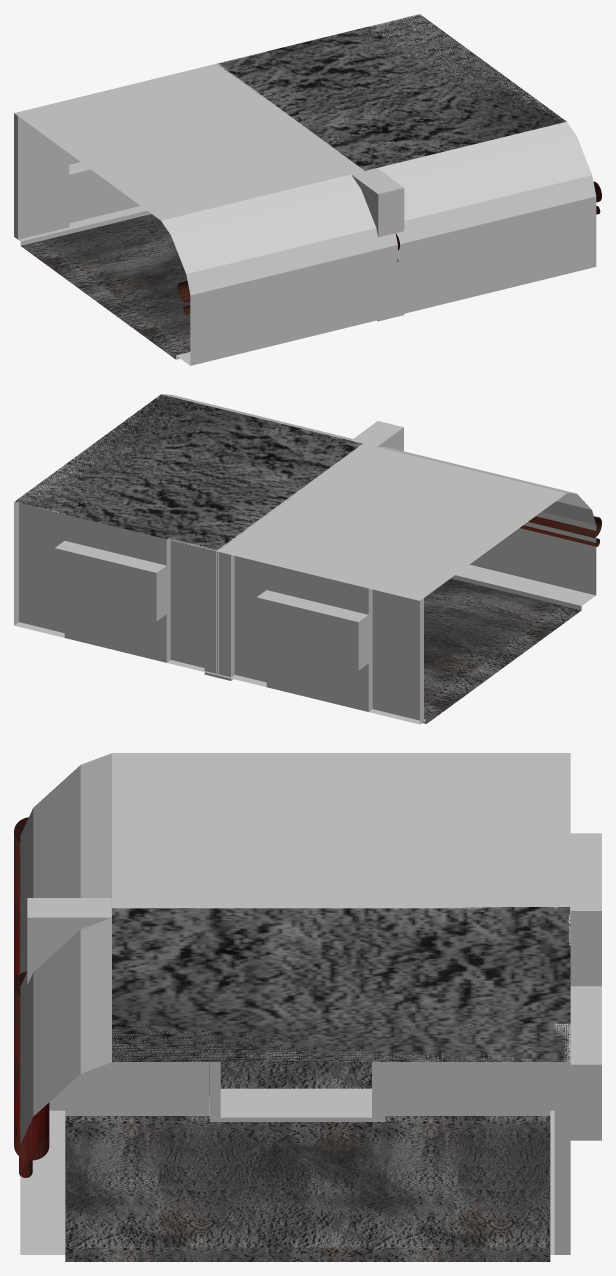
Rendered from Hallway 1 frame modular.fbx.
3 views of the same model, one above another, from view 1: azimuth 30°, elevation 25°; view 2: azimuth 150°, elevation 25°; view 3: azimuth 270°, elevation 25° (orthographic). The views are drawn at different scales.
Parts seen in each view (by area): view 1: Hallway 1 frame; view 2: Hallway 1 frame; view 3: Hallway 1 frame.
Part boxes in pixels (x1,y1,x2,y2): Hallway 1 frame: (14,14,601,365); Hallway 1 frame: (14,394,601,724); Hallway 1 frame: (14,753,601,1261).
Size of the model in its own units: 405 by 122 by 320.
